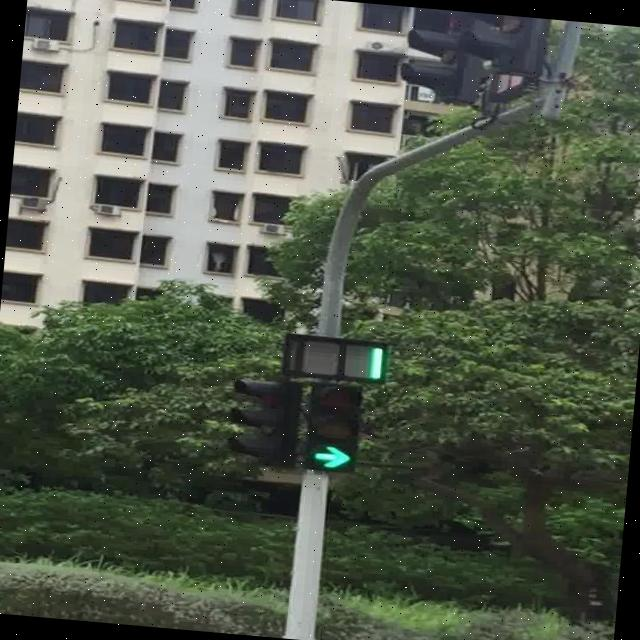green_light: (300, 382, 360, 474)
